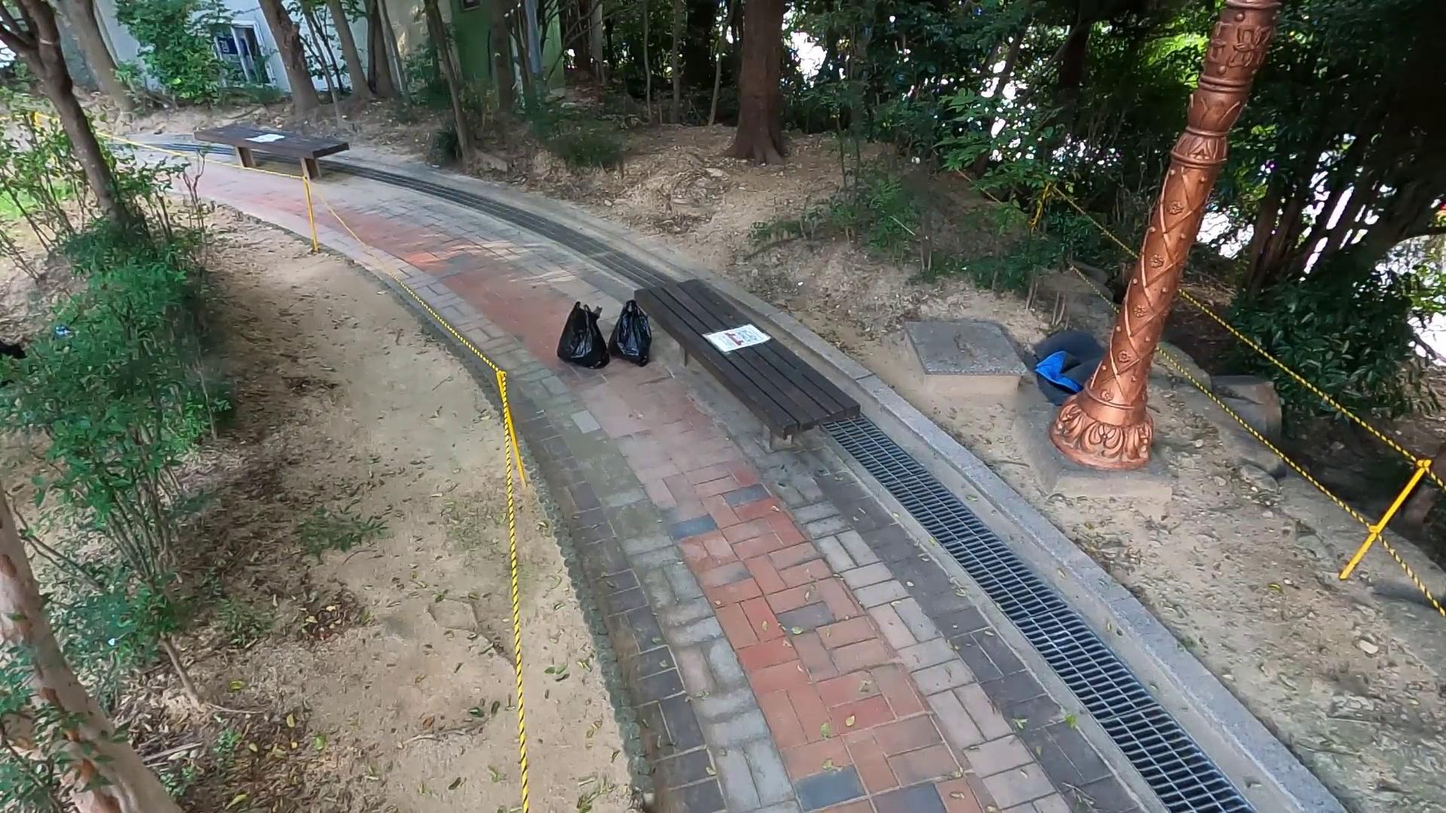trash: (1021, 324, 1115, 405), (556, 297, 614, 371), (604, 295, 654, 363)
